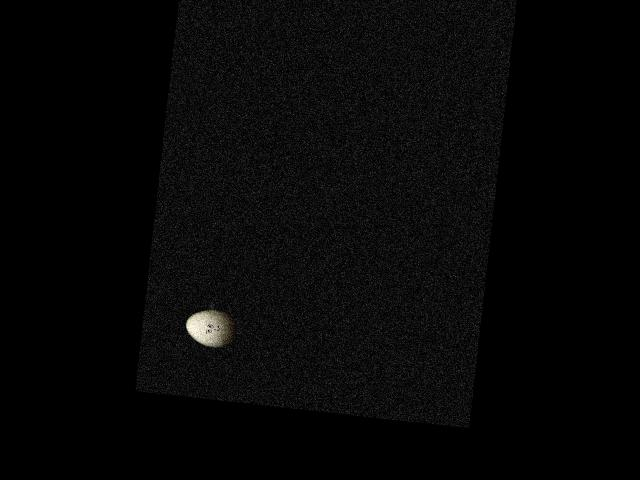egg: (183, 307, 236, 349)
